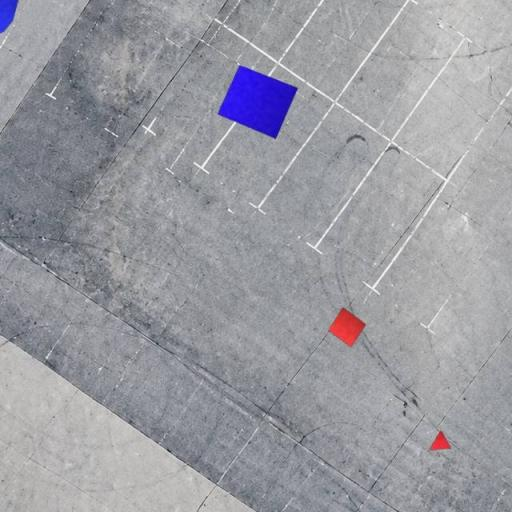BLUE_SQUARE: (217, 64, 298, 139)
RED_SQUARE: (328, 306, 366, 348)
